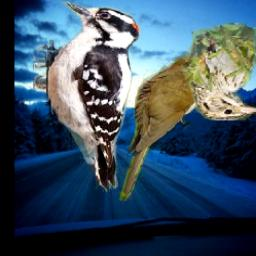Cuckoo: (119, 55, 215, 202)
Sparrow: (182, 23, 256, 120)
Woodpecker: (33, 2, 142, 194)
